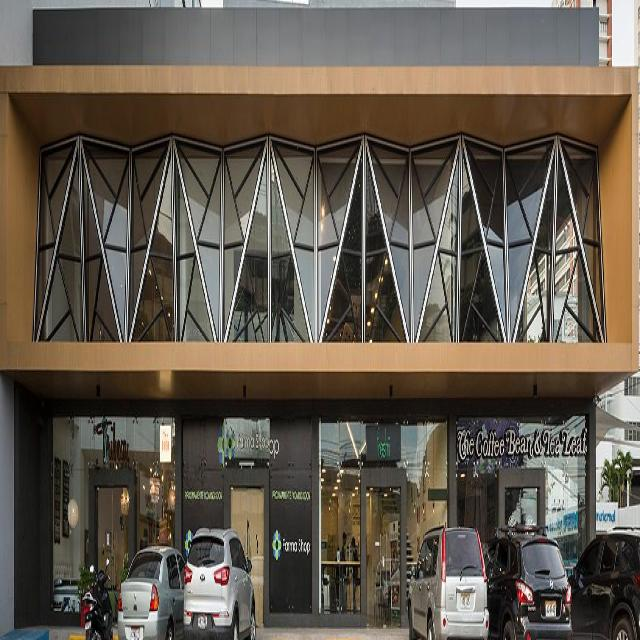door: (361, 465, 405, 624), (89, 461, 135, 601), (231, 487, 264, 624)
window: (31, 133, 606, 342), (320, 427, 448, 618), (50, 415, 176, 601)
